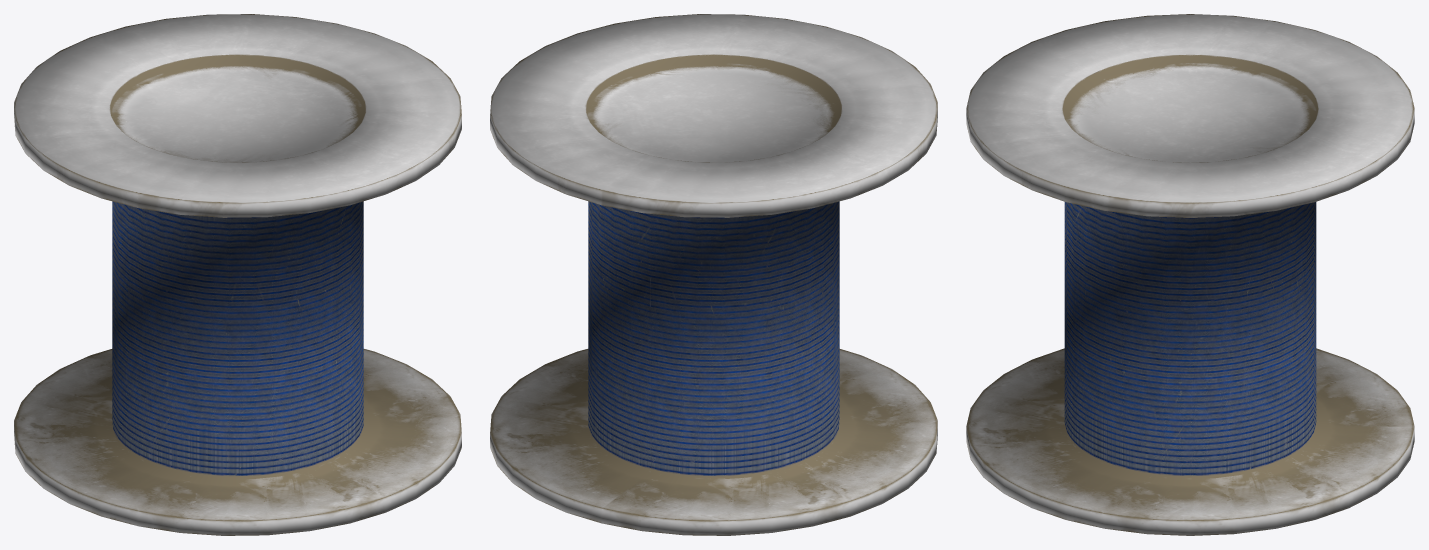
The model's file is Obstaculo_2.fbx.
The picture shows the model from 3 angles, left to right: view 1: azimuth 30°, elevation 25°; view 2: azimuth 150°, elevation 25°; view 3: azimuth 270°, elevation 25°; orthographic projection.
Parts seen in each view (by area): view 1: obstaculo2_low; view 2: obstaculo2_low; view 3: obstaculo2_low.
Boxes of the visible parts, x1,y1,x2,y2 form: obstaculo2_low: (14, 14, 461, 535); obstaculo2_low: (490, 14, 937, 535); obstaculo2_low: (966, 14, 1414, 535).
Size of the model in its own units: 118 by 96.69 by 118.
